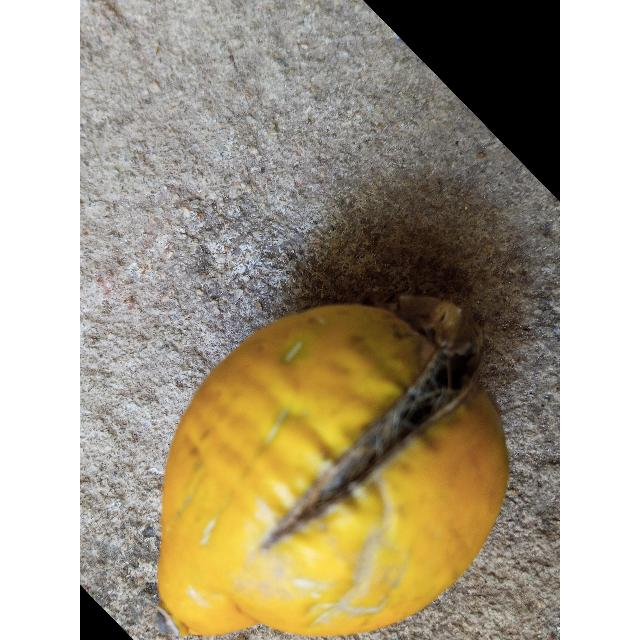damaged: (156, 304, 509, 640)
